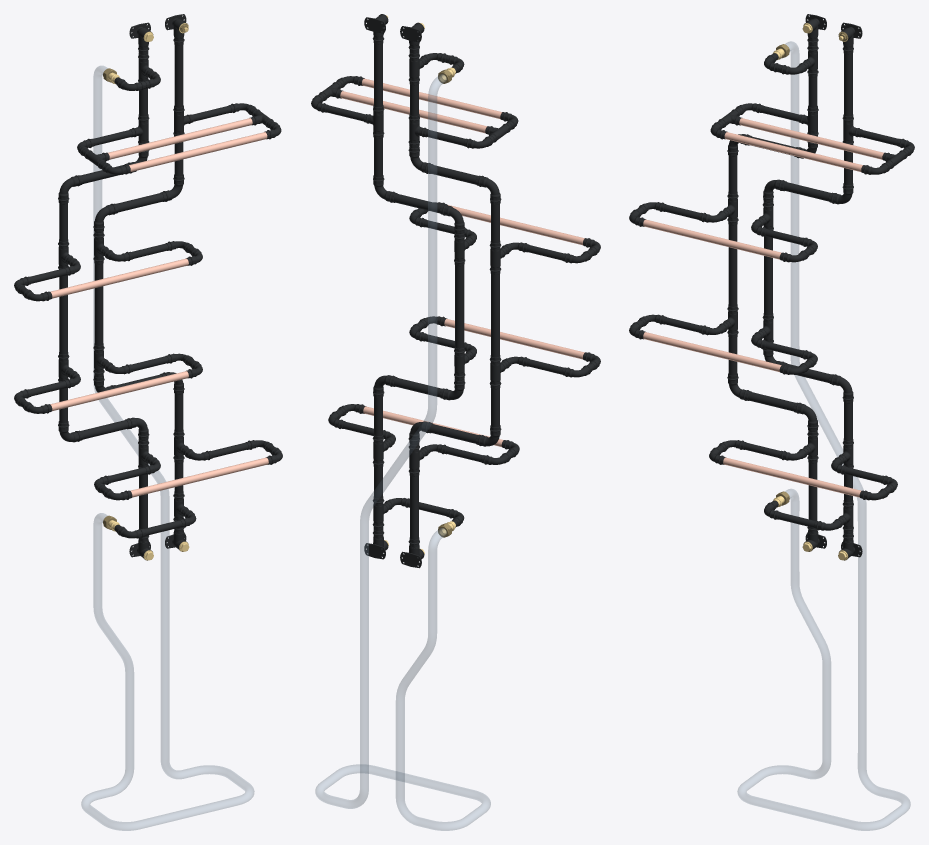
File: from_blender_with_uv_tex.gltf
3 views of the same model, side by side, from view 1: azimuth 30°, elevation 25°; view 2: azimuth 150°, elevation 25°; view 3: azimuth 330°, elevation 25° (orthographic).
Visible parts, largest first — view 1: Rib.5, Pad.005, Pad.081, Pad.075, Pad.033, Pad.061, Pad.047, Pad.011, Pad.015, Pad.019; view 2: Rib.5, Pad.005, Pad.081, Pad.033, Pad.075, Pad.061, Pad.011, Pad.015, Pad.019, Pad.009; view 3: Rib.5, Pad.005, Pad.081, Pad.033, Pad.075, Pad.047, Pad.061, Pad.011, Pad.015, Pad.019.
Part boxes in pixels (<box>): Rib.5: <box>81,66,254,830</box>; Pad.005: <box>59,203,67,423</box>; Pad.081: <box>108,118,252,159</box>; Pad.075: <box>129,132,267,171</box>; Pad.033: <box>50,371,188,411</box>; Pad.061: <box>50,258,188,298</box>; Pad.047: <box>130,457,268,497</box>; Pad.011: <box>174,45,183,176</box>; Pad.015: <box>94,232,103,377</box>; Pad.019: <box>174,393,183,493</box>; Rib.5: <box>315,74,490,830</box>; Pad.005: <box>491,204,499,427</box>; Pad.081: <box>340,91,486,133</box>; Pad.033: <box>444,319,584,359</box>; Pad.075: <box>362,78,501,119</box>; Pad.061: <box>448,205,584,245</box>; Pad.011: <box>374,43,382,177</box>; Pad.015: <box>455,233,464,380</box>; Pad.019: <box>374,397,382,530</box>; Pad.009: <box>410,443,418,539</box>; Rib.5: <box>737,41,910,830</box>; Pad.005: <box>728,155,737,375</box>; Pad.081: <box>739,118,883,159</box>; Pad.033: <box>643,332,781,372</box>; Pad.075: <box>724,132,862,171</box>; Pad.047: <box>723,457,861,497</box>; Pad.061: <box>643,219,781,259</box>; Pad.011: <box>844,53,852,185</box>; Pad.015: <box>764,201,772,315</box>; Pad.019: <box>844,402,852,534</box>.
Size of the model in its own units: 0.7239 by 2.09 by 0.274.
